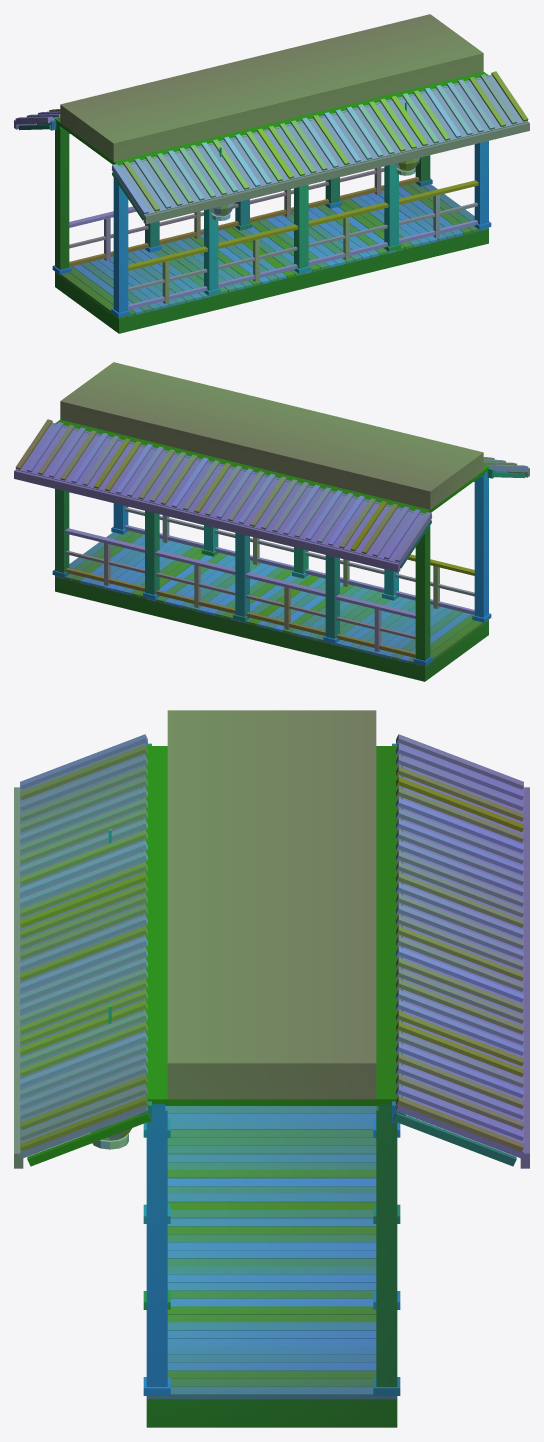
The model's file is B_corr_b.glb.
The picture shows the model from 3 angles, top to bottom: view 1: azimuth 30°, elevation 25°; view 2: azimuth 150°, elevation 25°; view 3: azimuth 270°, elevation 25°; orthographic projection. The views are drawn at different scales.
Visible parts, largest first — view 1: B_corr_b; view 2: B_corr_b; view 3: B_corr_b.
Part boxes in pixels (bbox=[...]): B_corr_b: bbox=[14, 14, 529, 333]; B_corr_b: bbox=[14, 362, 529, 681]; B_corr_b: bbox=[14, 710, 529, 1427].
Bounding box in the file's own units: 8.3 × 3.85 × 4.94.
